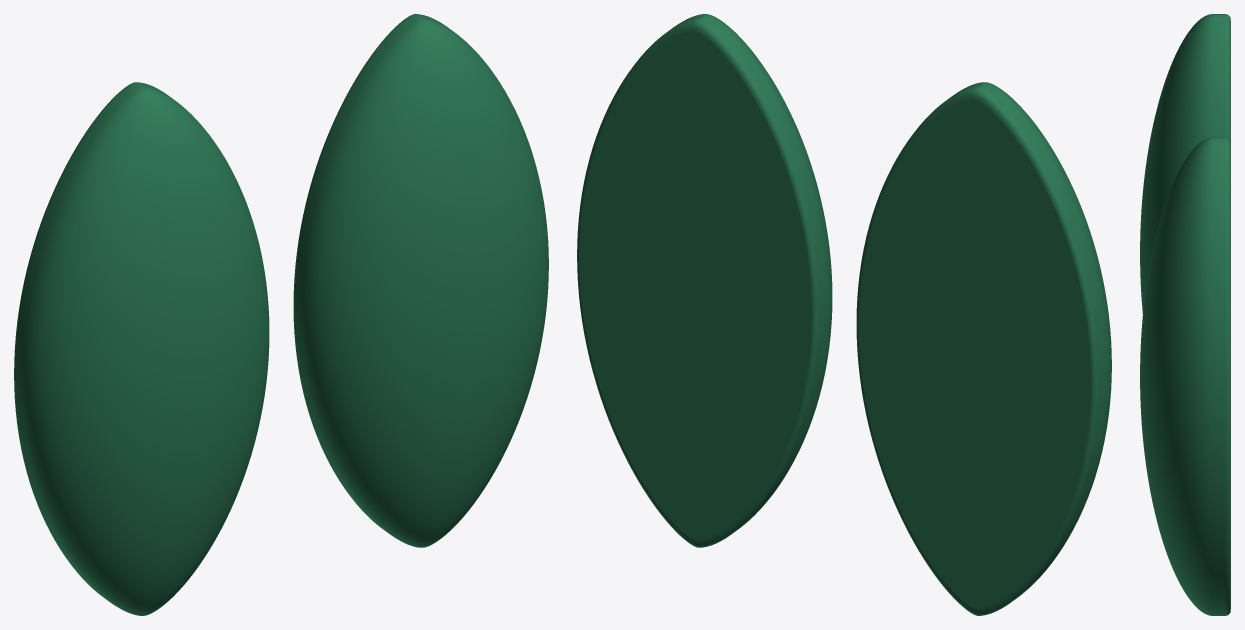
The model's file is matched-pair-v1.glb.
The picture shows the model from 3 angles, left to right: view 1: azimuth 30°, elevation 25°; view 2: azimuth 150°, elevation 25°; view 3: azimuth 270°, elevation 25°; orthographic projection. The views are drawn at different scales.
Visible parts, largest first — view 1: Marquise Cabochon 23x11x4mm, Marquise Cabochon 23x11x4mm.001; view 2: Marquise Cabochon 23x11x4mm.001, Marquise Cabochon 23x11x4mm; view 3: Marquise Cabochon 23x11x4mm.001, Marquise Cabochon 23x11x4mm.
Part boxes in pixels (<box>): Marquise Cabochon 23x11x4mm: <box>14,82,269,615</box>; Marquise Cabochon 23x11x4mm.001: <box>293,14,548,547</box>; Marquise Cabochon 23x11x4mm.001: <box>577,14,832,547</box>; Marquise Cabochon 23x11x4mm: <box>856,82,1111,615</box>; Marquise Cabochon 23x11x4mm.001: <box>1140,137,1230,615</box>; Marquise Cabochon 23x11x4mm: <box>1140,14,1230,313</box>.
Bounding box in the file's own units: 0.0238 × 0.023 × 0.00398.
